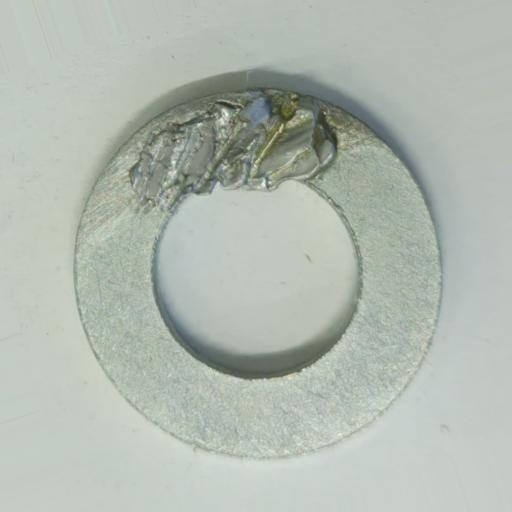excess_material: (126, 88, 338, 216)
